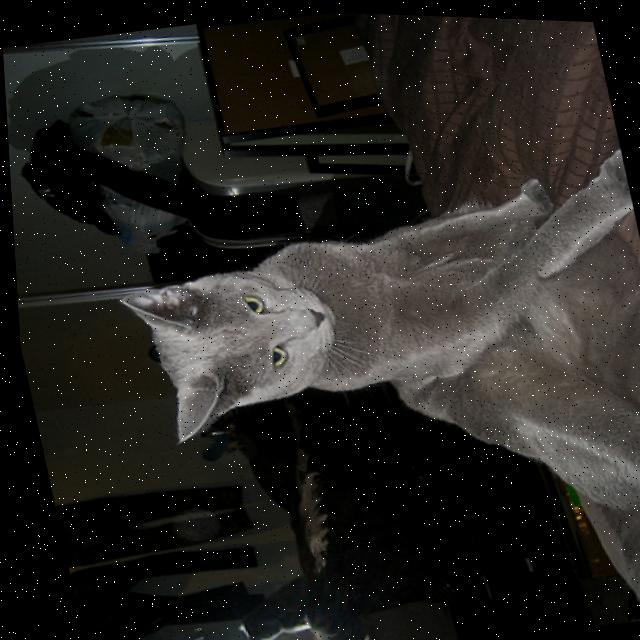Russian Blue: (86, 127, 640, 640)
